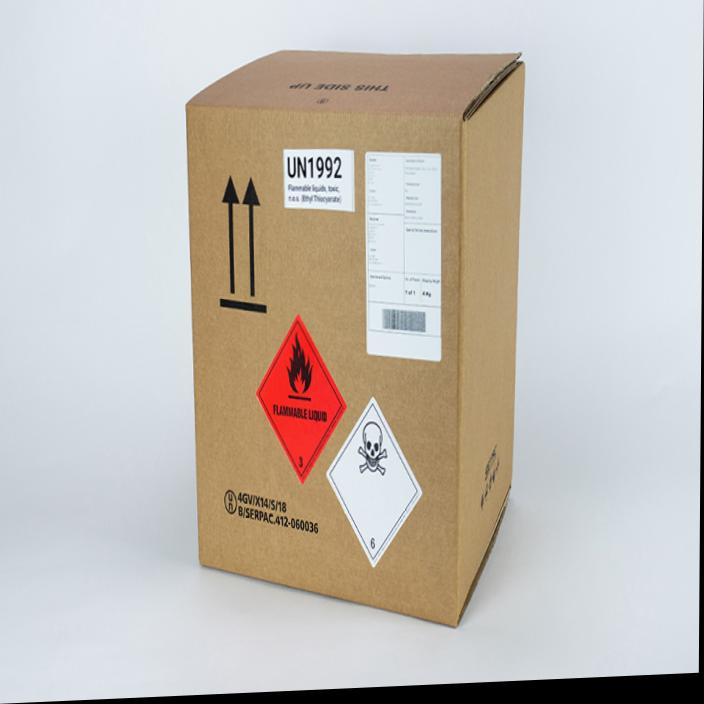can and bottle trash cans: (257, 316, 345, 482)
door: (327, 398, 420, 566)
